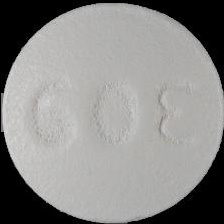0093-5062: (0, 0, 224, 224)
